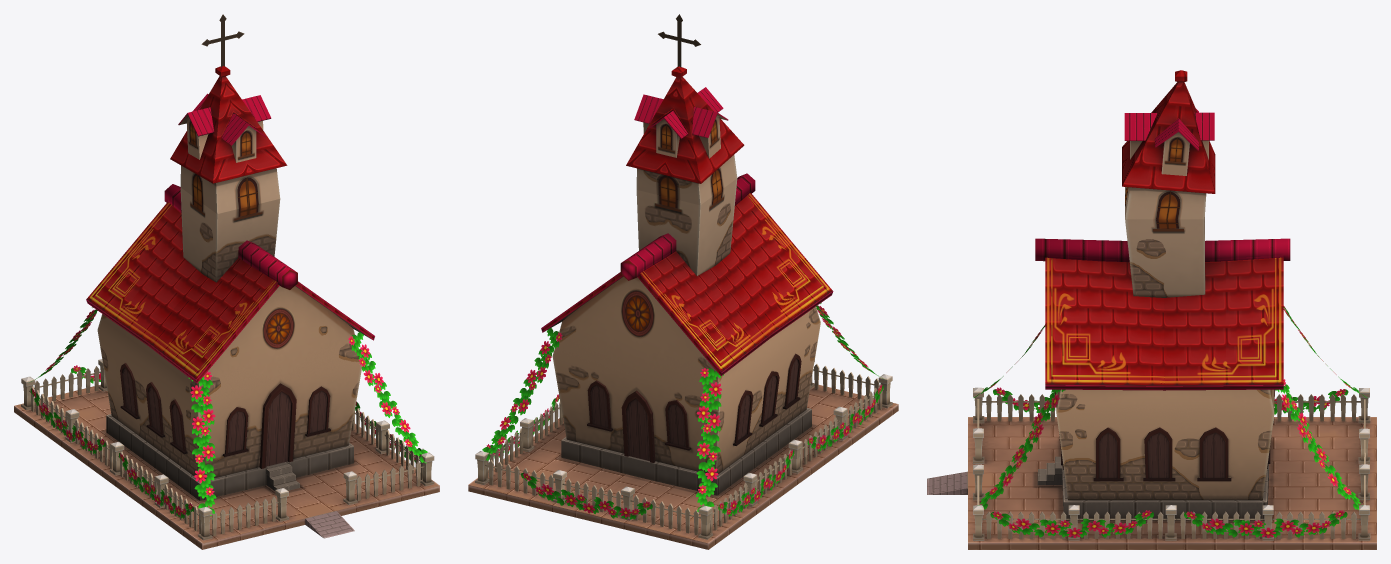
File: Church_F.FBX
3 renders of one model, left to right at view 1: azimuth 30°, elevation 25°; view 2: azimuth 150°, elevation 25°; view 3: azimuth 270°, elevation 25°, orthographic. The views are drawn at different scales.
Visible parts, largest first — view 1: Church, Flower_Rope_Church; view 2: Church, Flower_Rope_Church; view 3: Church, Flower_Rope_Church.
Part boxes in pixels (x1,y1,x2,y2): Church: (14,14,439,549); Flower_Rope_Church: (29,307,427,518); Church: (468,14,898,549); Flower_Rope_Church: (482,303,883,519); Church: (927,70,1376,549); Flower_Rope_Church: (973,306,1366,538).
Bounding box in the file's own units: 269 × 463 × 399.
